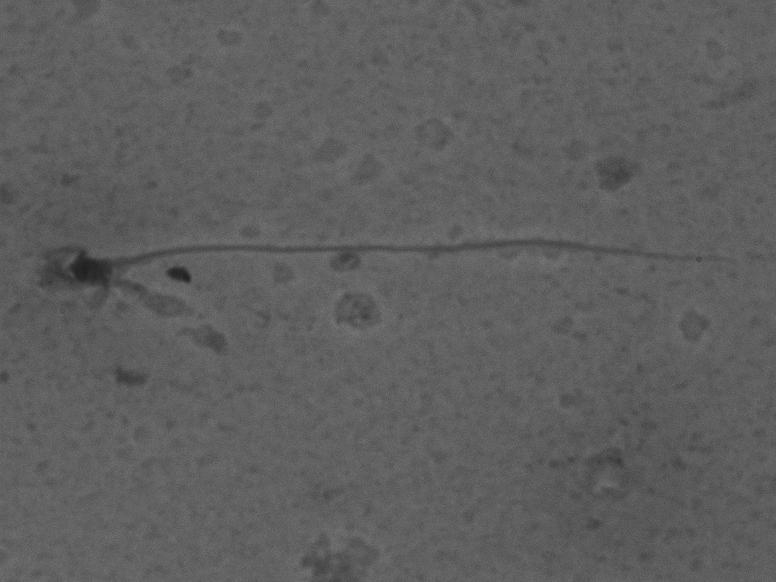Abnormal: (51, 167, 723, 329)
